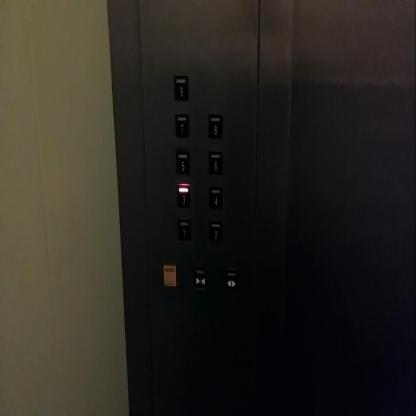1: (178, 219, 190, 242)
2: (209, 222, 221, 244)
3: (176, 182, 190, 207)
4: (208, 189, 222, 211)
5: (176, 150, 190, 176)
6: (208, 151, 222, 175)
7: (174, 113, 190, 139)
8: (208, 113, 222, 138)
9: (174, 75, 188, 101)
alarm: (163, 264, 176, 286)
close: (193, 268, 207, 289)
open: (224, 270, 238, 292)
